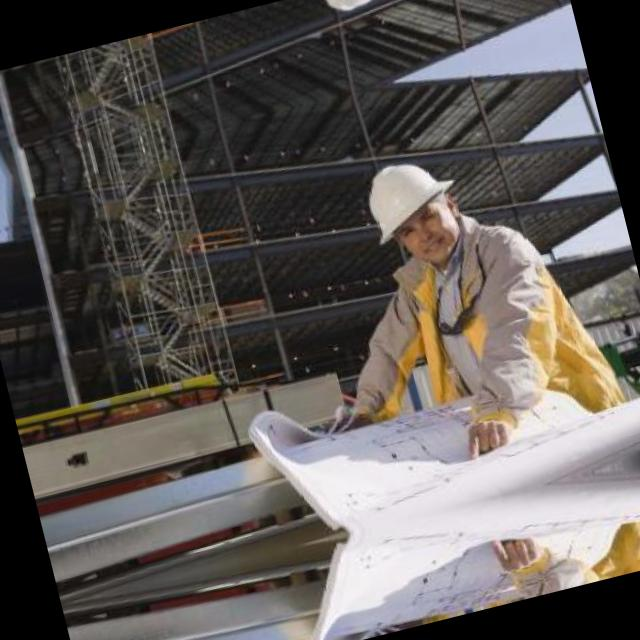helmet: (348, 137, 480, 284), (305, 0, 417, 31)
